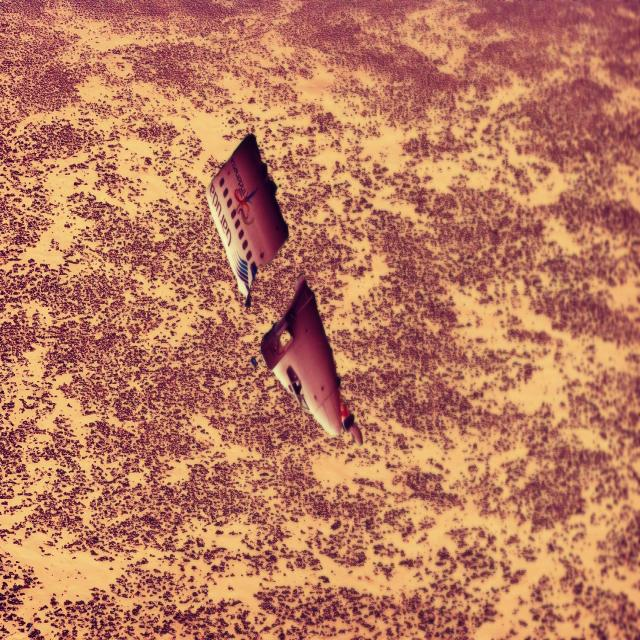airplane: (207, 131, 363, 446)
